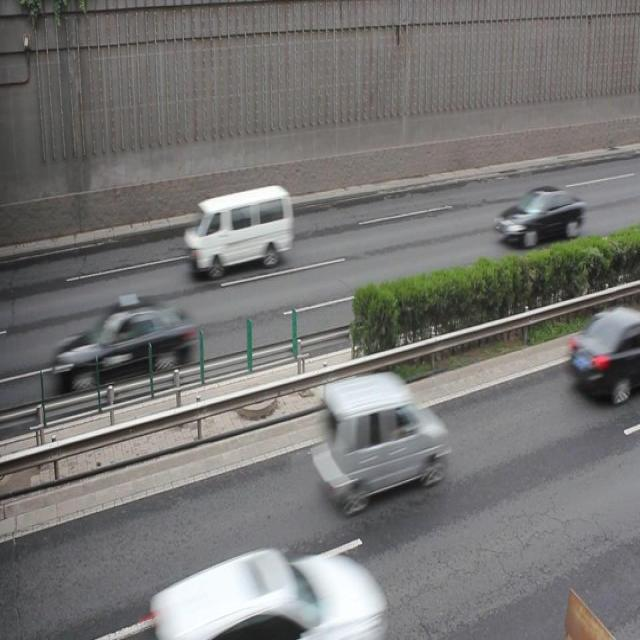car: (149, 547, 385, 640), (52, 296, 198, 392), (566, 305, 640, 404), (495, 185, 586, 246)
truck: (315, 369, 449, 508), (186, 182, 294, 277)
